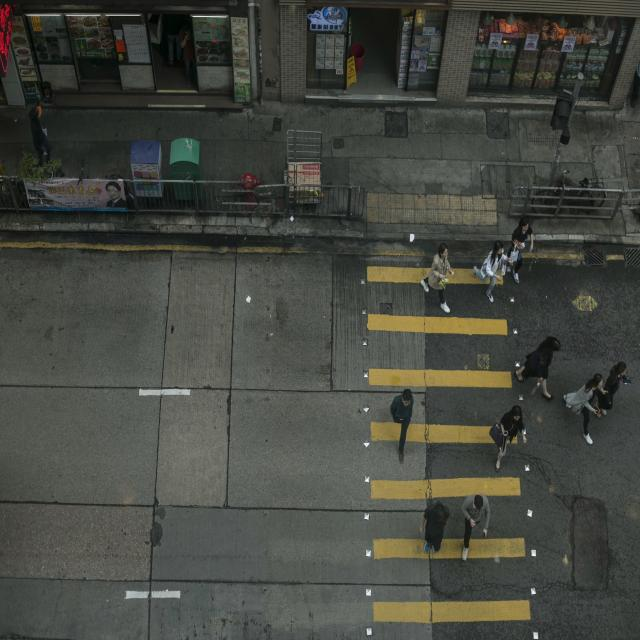adult: (561, 370, 606, 449), (514, 336, 562, 400), (490, 407, 531, 474), (594, 358, 630, 430), (420, 242, 456, 313), (472, 240, 510, 302), (462, 495, 490, 562), (389, 388, 414, 463), (507, 216, 533, 284), (419, 501, 450, 553)
